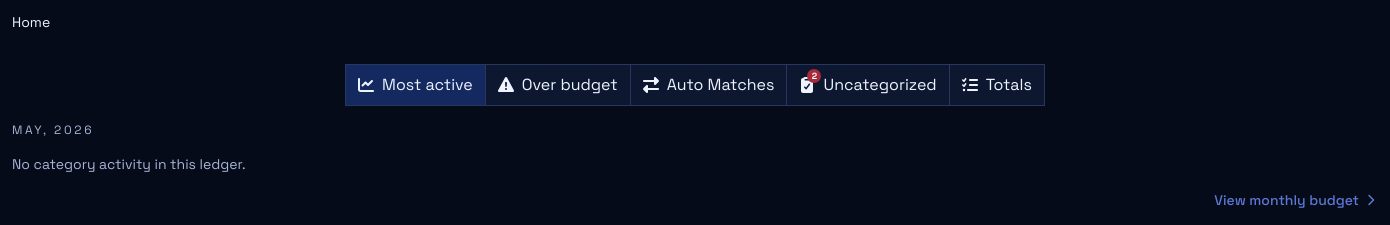
Test: dashboard workspace › shows an explicit empty state when no categories are over budget
The width and height of the screenshot is (1390, 225).
Click the tab "Over budget".
click(557, 85)  # box [485,65,630,105]
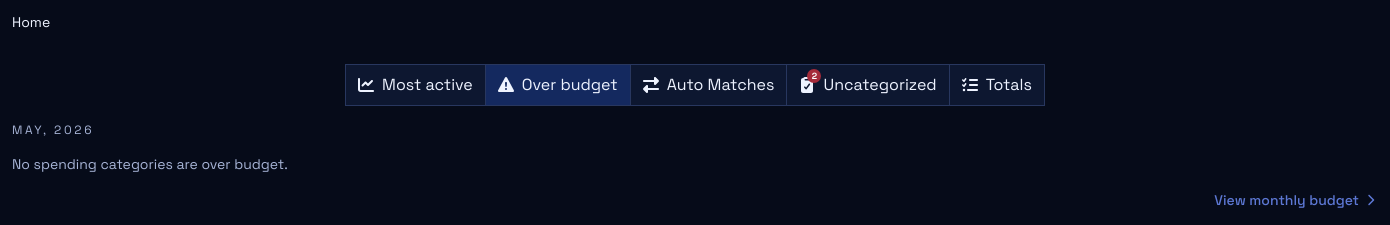
Expected: the text "No spending categories are over budget." is shown, [12,155,288,173]
Click the tab "Most active".
click(416, 85)  # box [346,65,485,105]
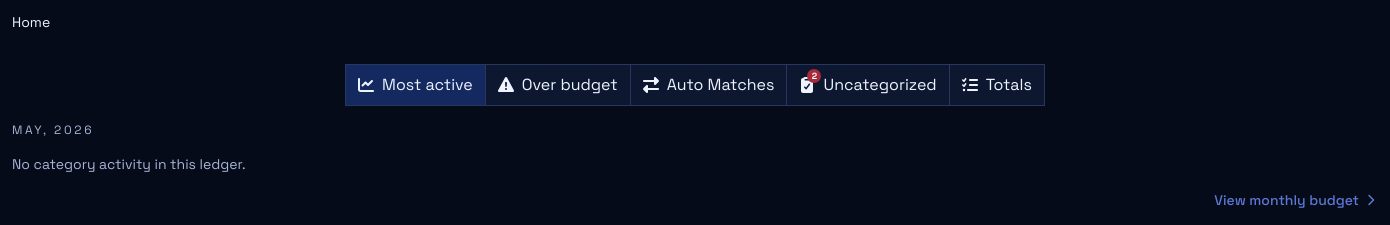
Expected: the text "No category activity in this ledger." is shown, [12,155,246,173]
